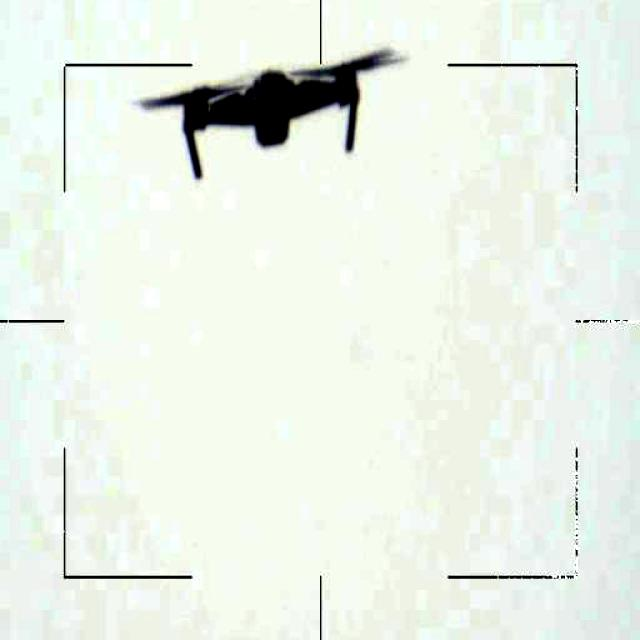bird: (129, 40, 405, 182)
